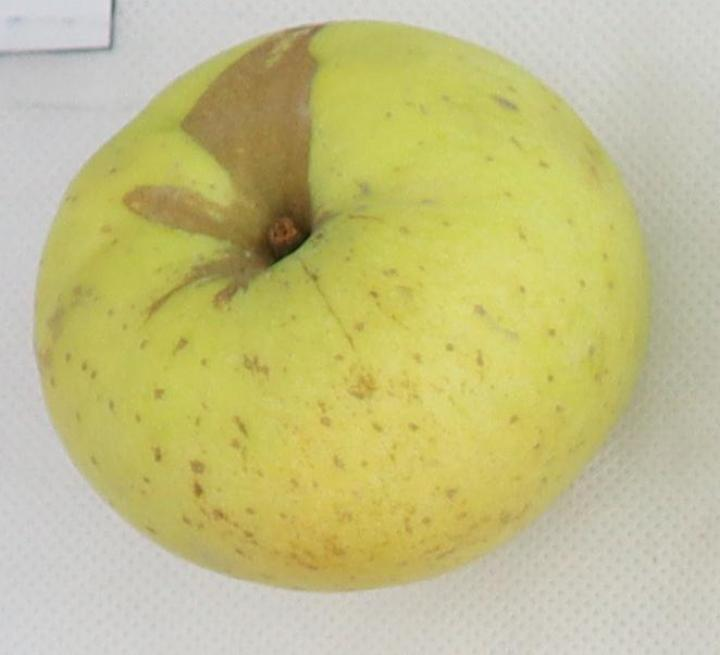apple: (35, 22, 648, 589)
bruise_discoloration: (123, 27, 320, 320)
